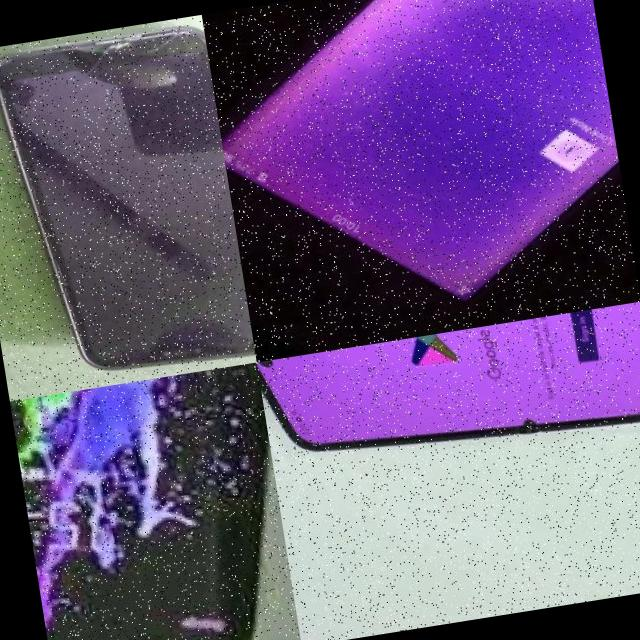dead pixel: (505, 401, 538, 448)
screen crack: (17, 18, 194, 96), (230, 322, 256, 366)
